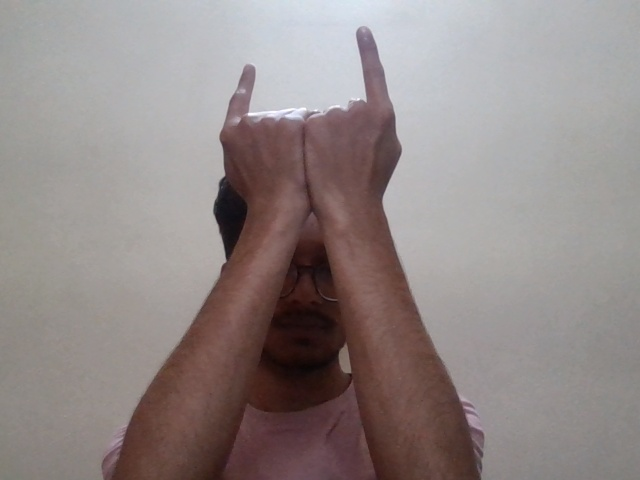when: (212, 22, 426, 210)
